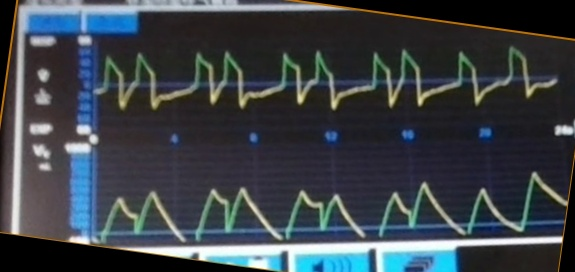Double_Triggering Flow: (97, 45, 559, 119)
Double_Triggering Volume: (95, 168, 557, 240)
